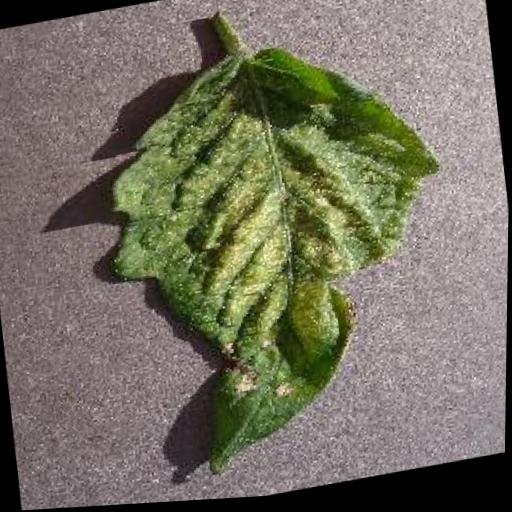Spider Mites: (86, 27, 468, 490)
